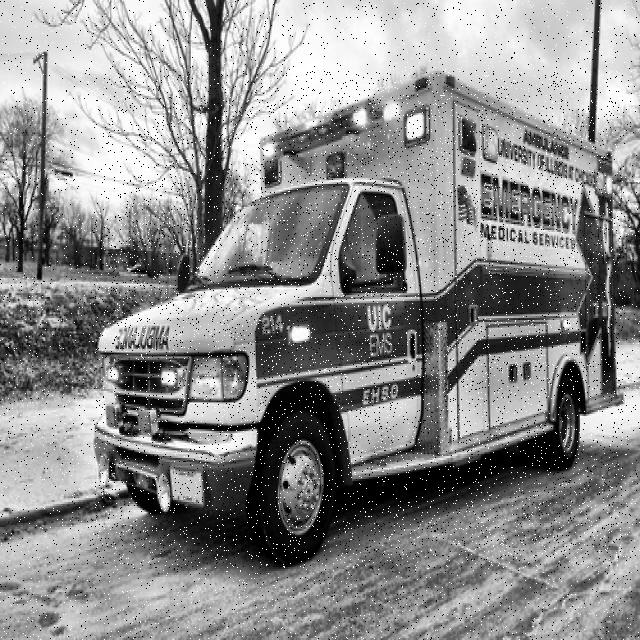Ambulance: (94, 71, 624, 568)
